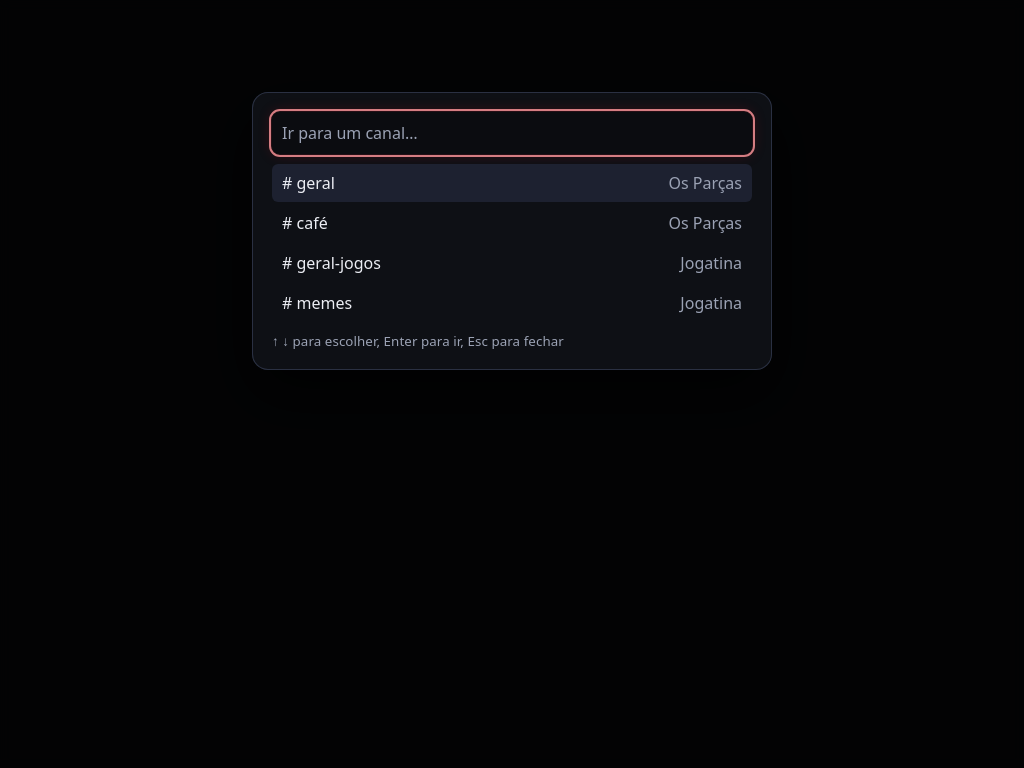
QuickSwitcher › clicar escolhe; sem resultado avisa e Enter não faz nada
Click the button "# memes Jogatina": [324, 303] box [272,284,752,322]
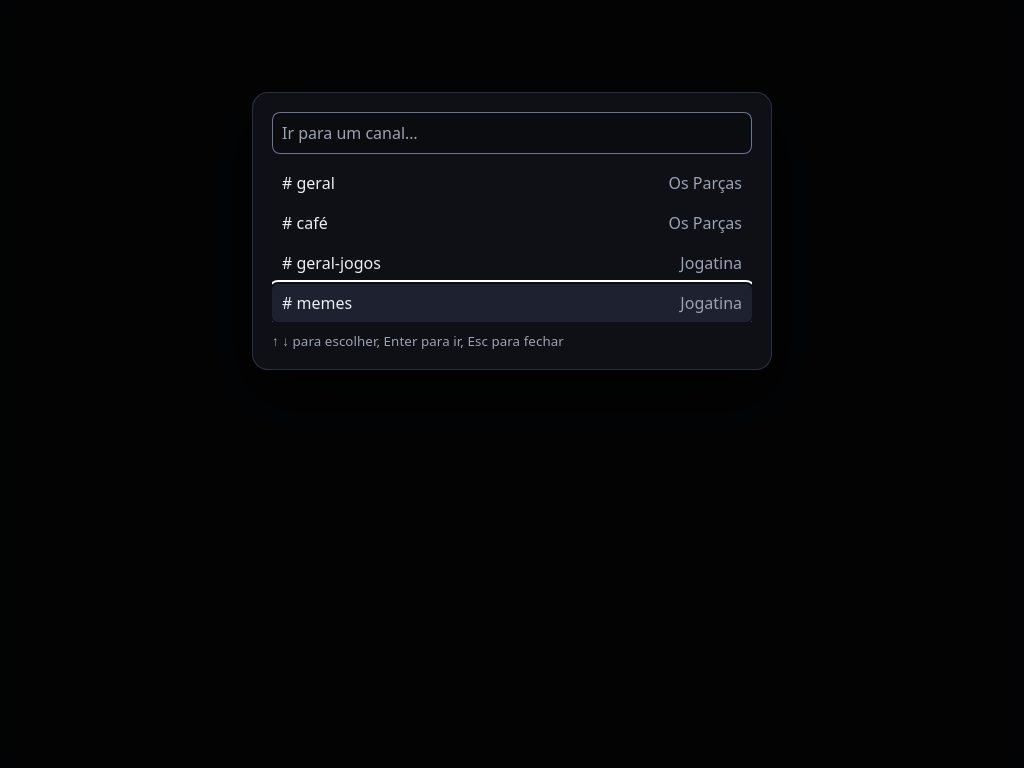
In the field named "Buscar canal": [512, 133] box [272,112,752,154], type "zzz"
Then press Enter
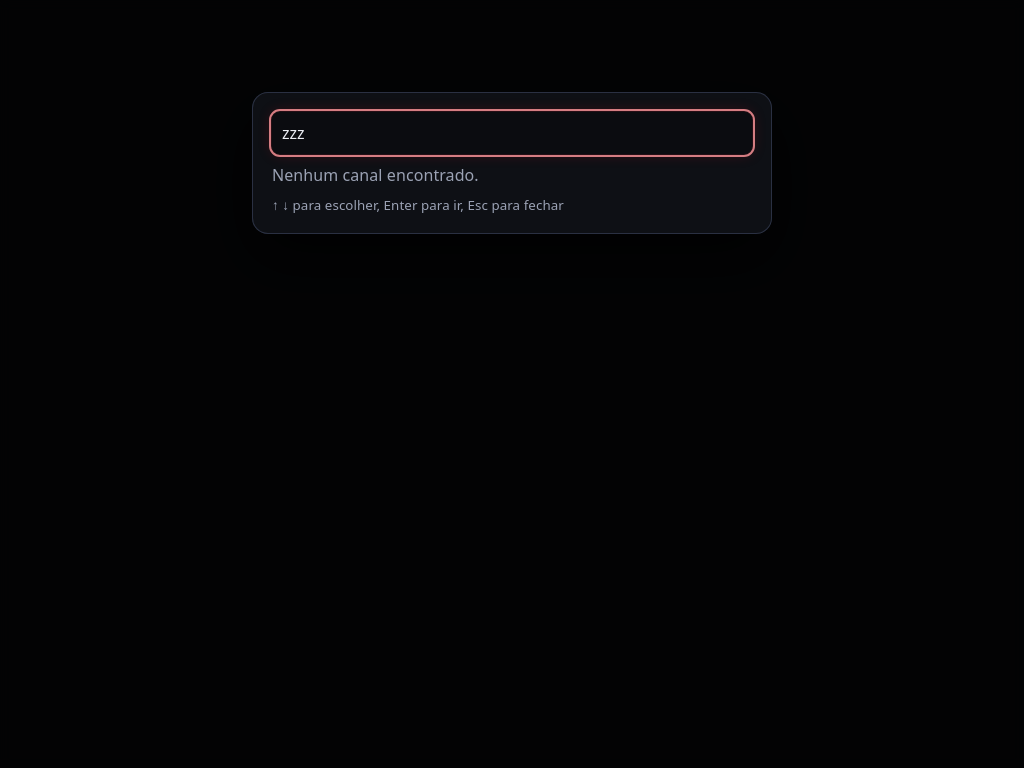
Now the list item "Nenhum canal encontrado." is shown, box [272,164,479,186]
